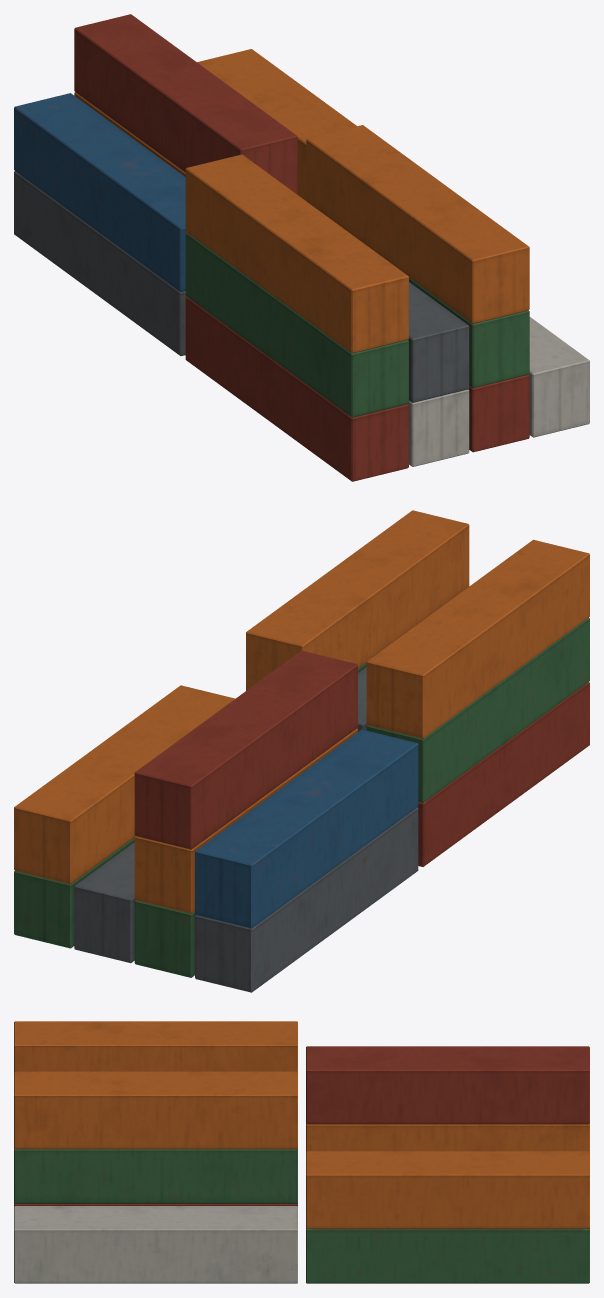
File: container-stack.fbx
3 views of the same model, one above another, from view 1: azimuth 30°, elevation 25°; view 2: azimuth 150°, elevation 25°; view 3: azimuth 270°, elevation 25° (orthographic). The views are drawn at different scales.
Visible parts, largest first — view 1: container-stack; view 2: container-stack; view 3: container-stack.
Part boxes in pixels (x1=…): container-stack: x1=14, y1=14, x2=589, y2=481; container-stack: x1=14, y1=510, x2=589, y2=992; container-stack: x1=14, y1=1021, x2=589, y2=1283.
Bounding box in the file's own units: 1008 × 777 × 2475.
1 material, 1 textured.
